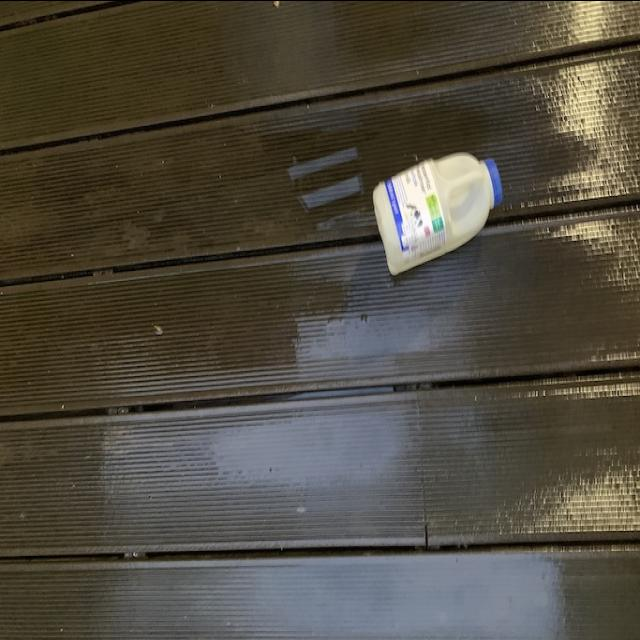litter: (373, 145, 508, 275)
